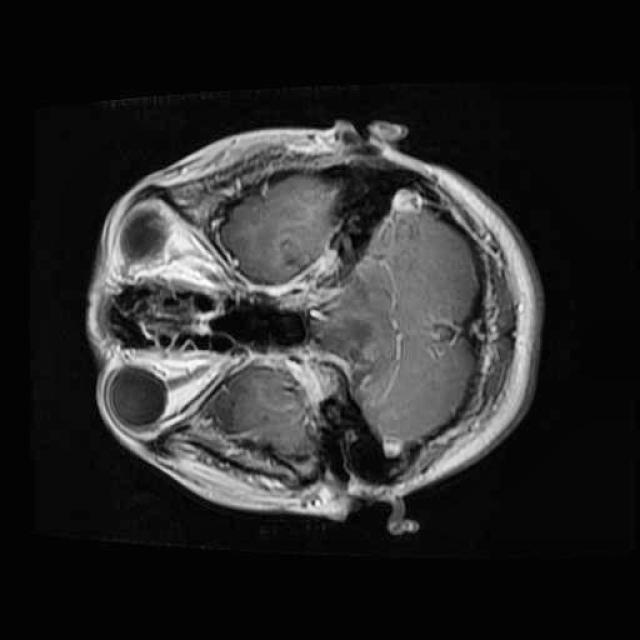Non-Tumor: (280, 256, 392, 410)
